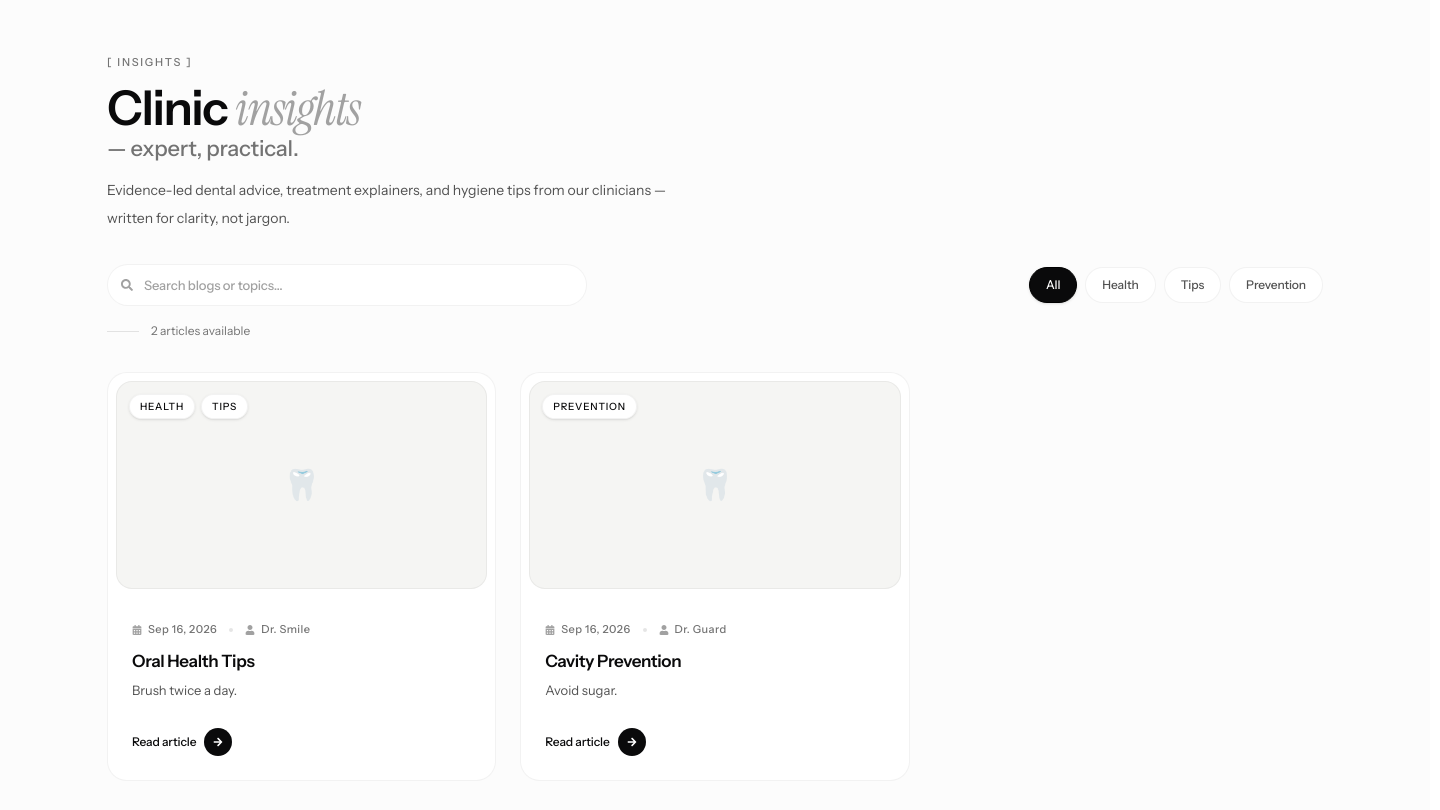
Test case: BlogListPage › should show "No blogs found" when search yields no results
Expected: the heading "Oral Health Tips" is shown, [132,651,254,671]
Type "UnknownTopic" into the field with placeholder "Search blogs or topics...". click: (347, 285)
box: [107,264,587,306]
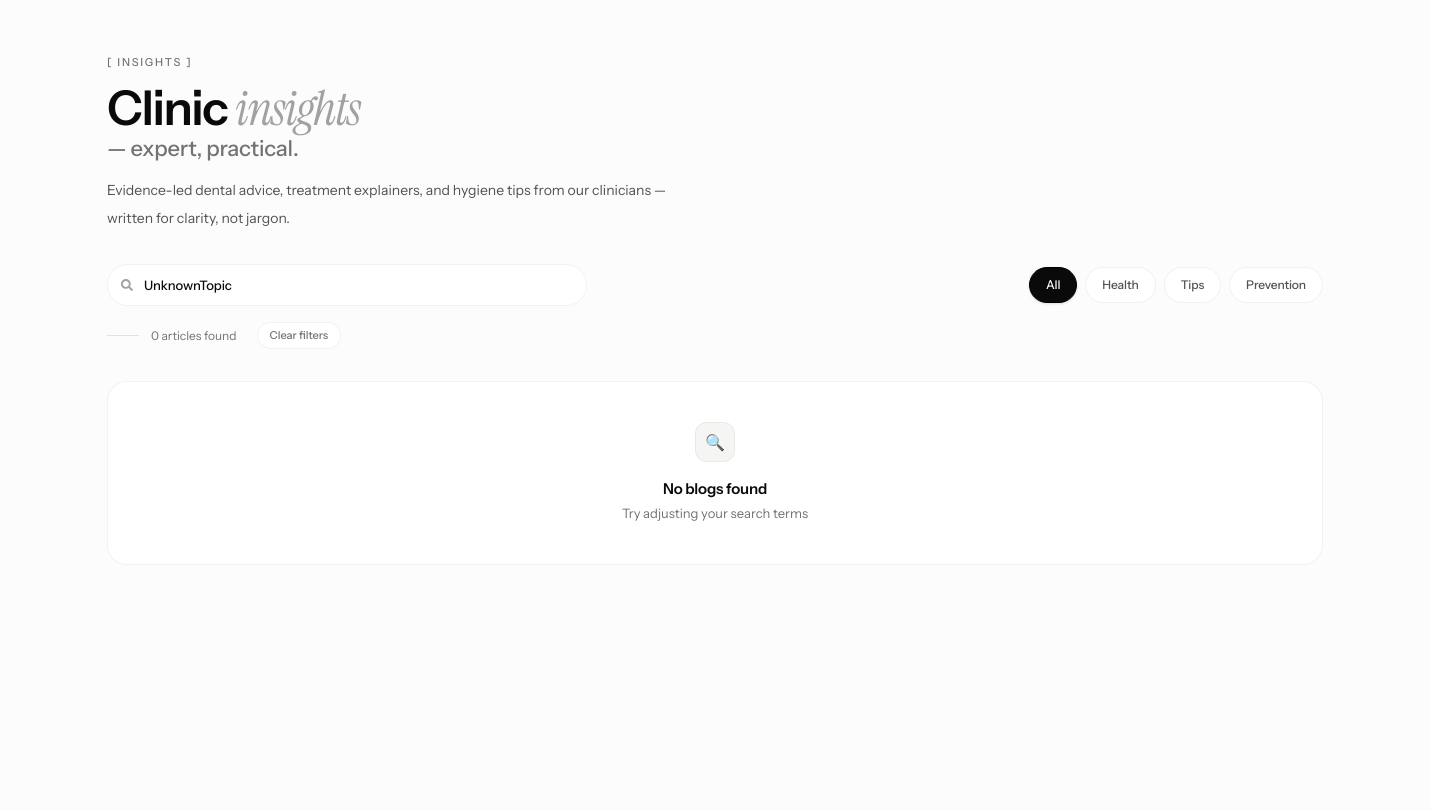
Result: the heading "No blogs found" is shown at [663,479,767,498]
